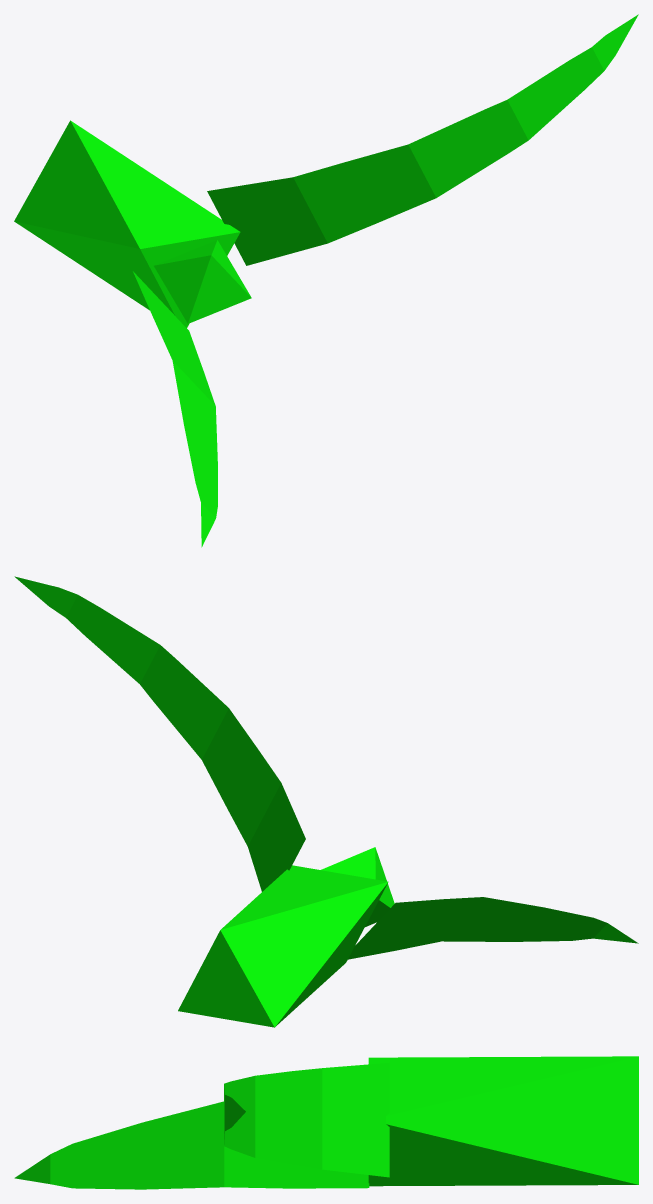
Rendered from usm_1_2.5D_2018-07-14_3.obj.
3 views of the same model, one above another, from view 1: azimuth 30°, elevation 25°; view 2: azimuth 150°, elevation 25°; view 3: azimuth 270°, elevation 25° (orthographic). The views are drawn at different scales.
Parts seen in each view (by area): view 1: vid_4, vid_3, vid_6, vid_5; view 2: vid_3, vid_4, vid_6, vid_5; view 3: vid_3, vid_4, vid_6.
Boxes of the visible parts, x1,y1,x2,y2 form: vid_4: (207, 14, 638, 265); vid_3: (14, 120, 240, 327); vid_6: (133, 271, 217, 547); vid_5: (154, 240, 251, 323); vid_3: (178, 865, 388, 1027); vid_4: (14, 576, 305, 891); vid_6: (348, 897, 638, 959); vid_5: (321, 847, 394, 926); vid_3: (368, 1056, 638, 1186); vid_4: (224, 1062, 389, 1177); vid_6: (14, 1101, 369, 1189).
Bounding box in the file's own units: 8.86 × 5.07 × 7.99.
